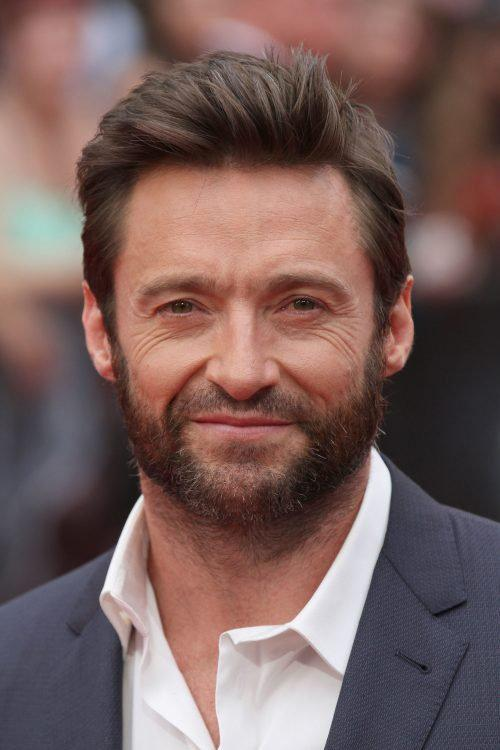Sober: (119, 164, 373, 486)
